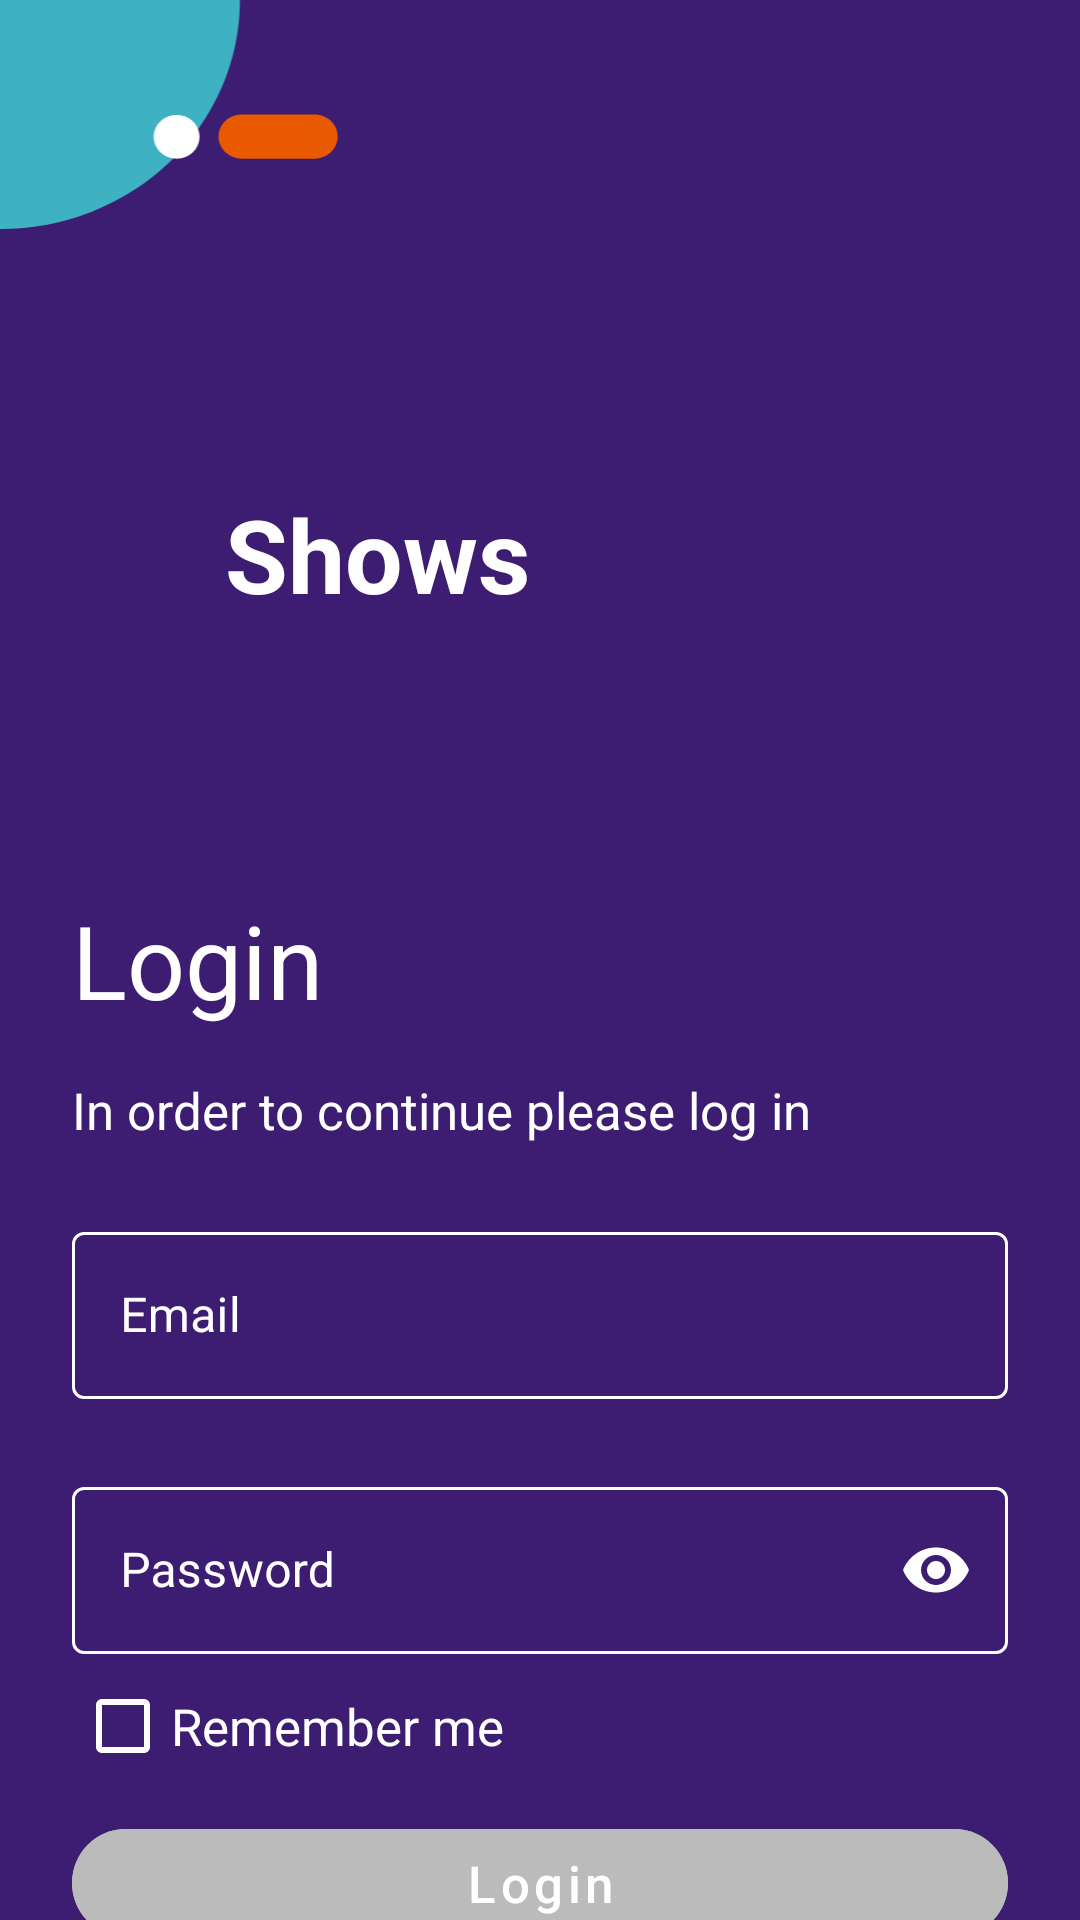

Locate icon controls on the screen. Image size 1080px x 1920px, boxes as (x1, y1, x2, y2).
top left illustration: (0, 0, 338, 229)
